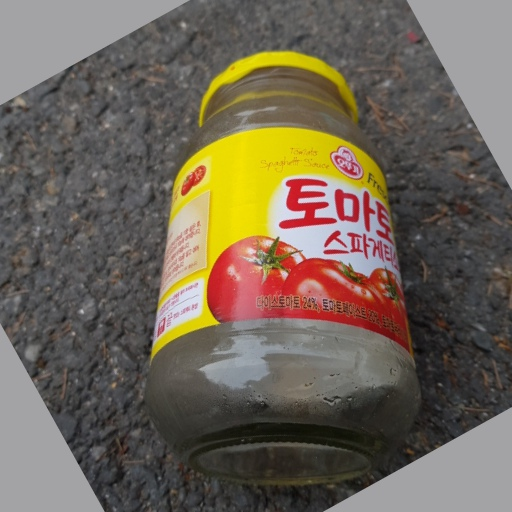Glass_5: (140, 53, 422, 484)
